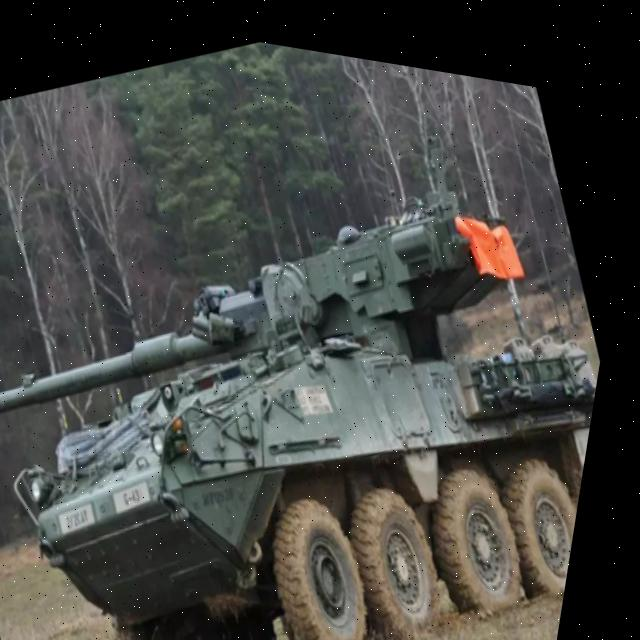MIL_APC: (0, 105, 627, 640)
